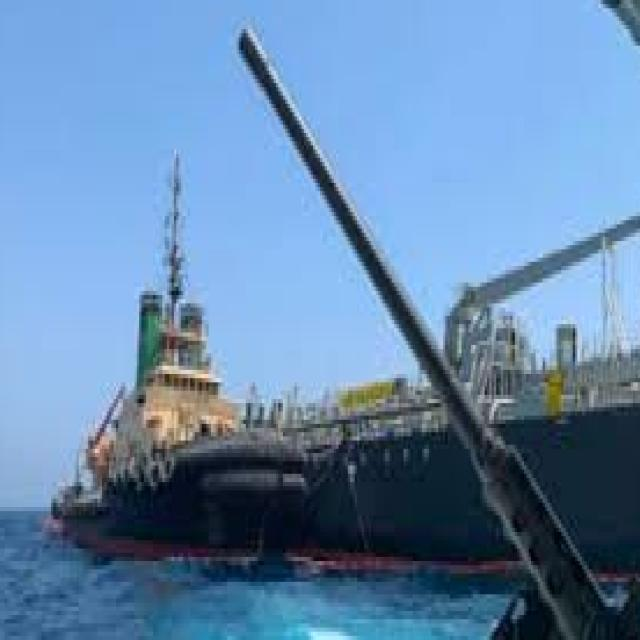navalvessels: (49, 153, 300, 557)
